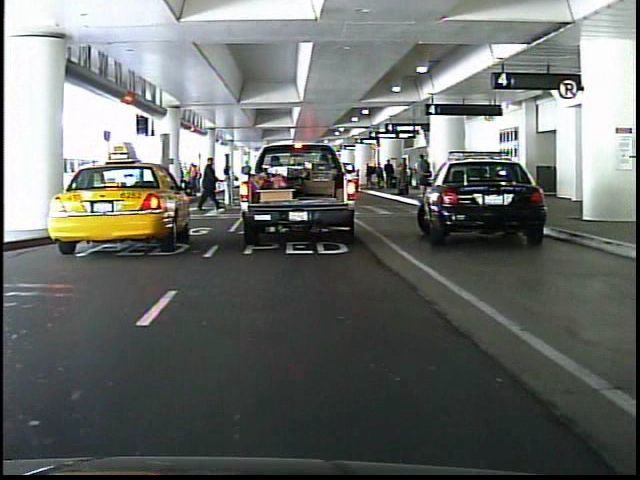person: (194, 154, 222, 214), (264, 146, 287, 202)
